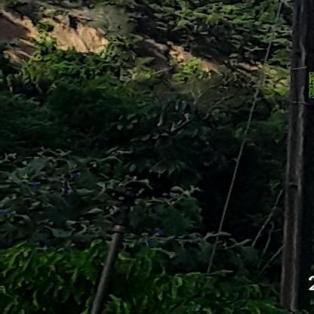Poste: (269, 0, 314, 307)
